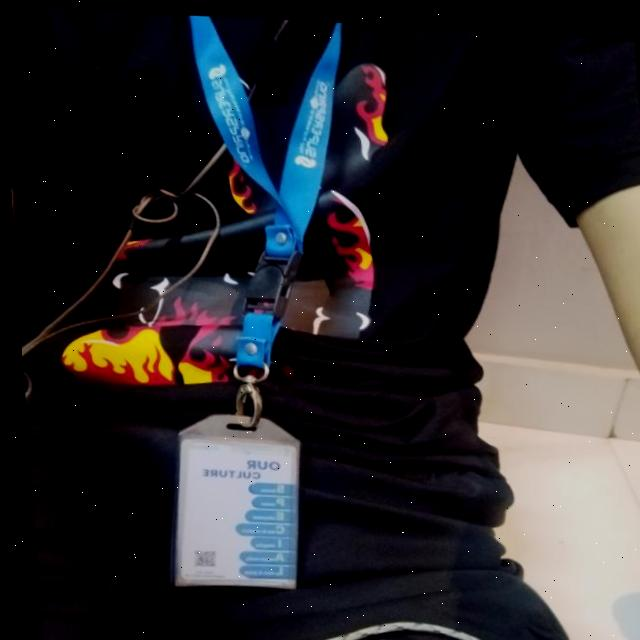id_card: (122, 8, 389, 605)
